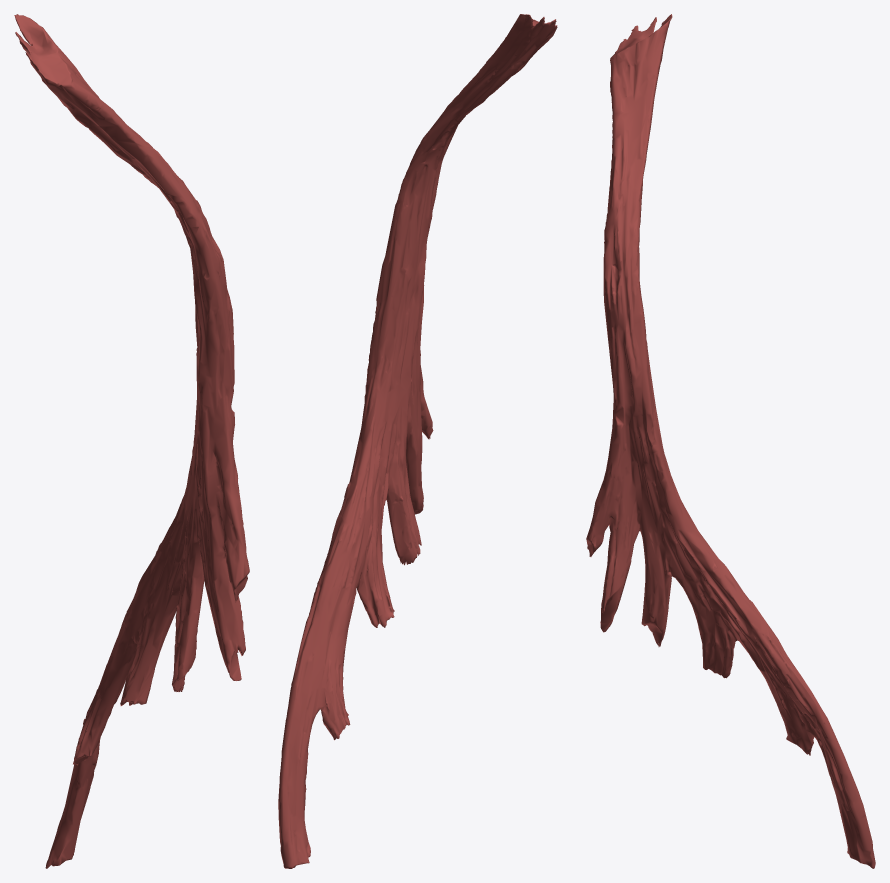
The model's file is FMA22754.glb.
The picture shows the model from 3 angles, left to right: view 1: azimuth 30°, elevation 25°; view 2: azimuth 150°, elevation 25°; view 3: azimuth 270°, elevation 25°; orthographic projection. The views are drawn at different scales.
Parts seen in each view (by area): view 1: FMA22754; view 2: FMA22754; view 3: FMA22754.
Boxes of the visible parts, box(x1,y1,x2,y2) form: FMA22754: box(14, 14, 249, 868); FMA22754: box(278, 14, 557, 868); FMA22754: box(586, 14, 875, 868).
Bounding box in the file's own units: 0.0341 × 0.1524 × 0.0507.
